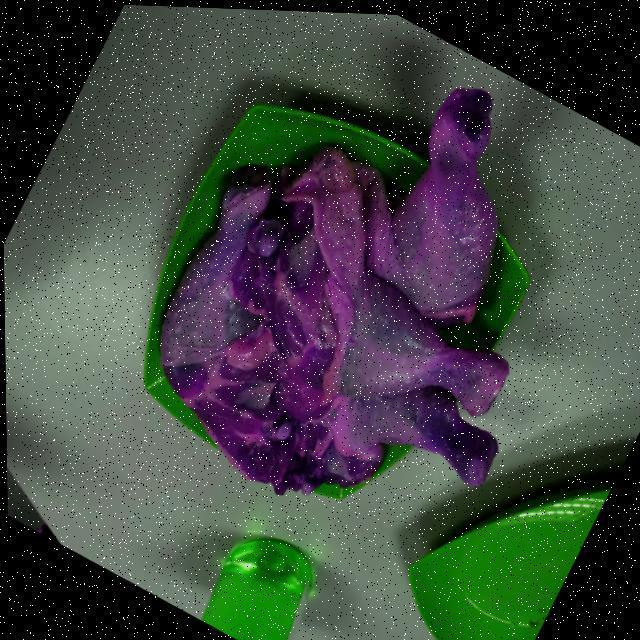quater: (283, 200, 523, 398), (170, 170, 294, 478), (266, 376, 502, 489), (423, 66, 495, 337)
